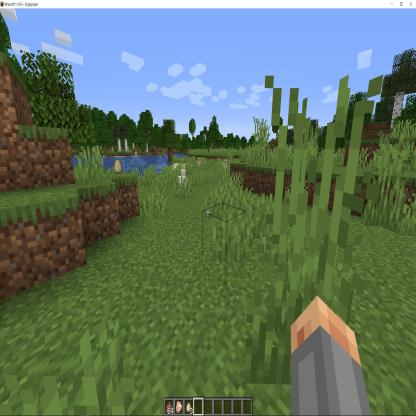minecraft-pigs: (206, 170, 238, 241)
